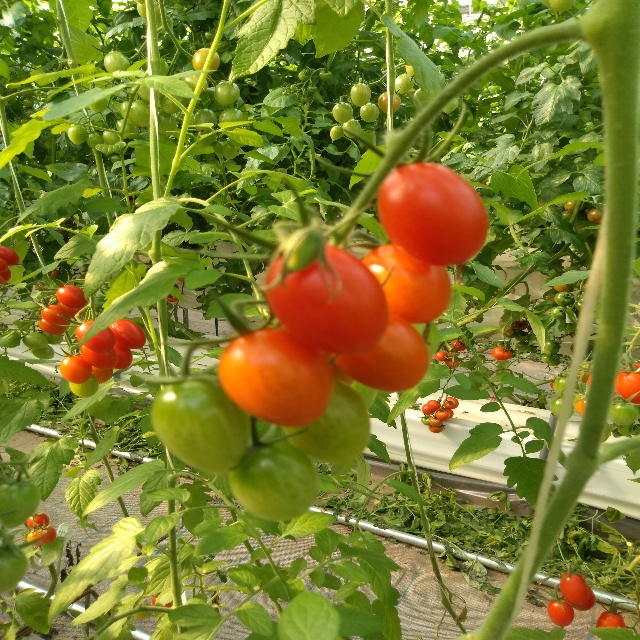l_fully_ripened: (266, 243, 389, 355), (376, 161, 489, 268), (325, 309, 429, 392), (74, 320, 116, 353), (109, 319, 147, 349), (559, 571, 589, 606), (615, 365, 640, 404), (80, 344, 117, 370), (547, 597, 574, 627), (55, 285, 87, 308), (568, 585, 596, 611), (595, 610, 627, 628), (112, 343, 133, 369), (34, 525, 57, 544), (26, 512, 50, 530), (0, 246, 19, 266), (0, 257, 8, 272)
l_green: (152, 375, 249, 475), (278, 378, 370, 464), (229, 441, 320, 521), (0, 478, 40, 529), (0, 543, 28, 596), (68, 374, 100, 398), (608, 401, 639, 425), (104, 51, 130, 78), (214, 81, 241, 106), (218, 107, 244, 131), (194, 108, 218, 133), (161, 92, 187, 114), (129, 100, 150, 127), (158, 108, 177, 135), (120, 100, 138, 127), (350, 83, 371, 106), (23, 332, 48, 350), (67, 124, 88, 145), (332, 103, 353, 124), (359, 102, 379, 123), (394, 73, 414, 94), (115, 119, 138, 137), (197, 128, 216, 148), (342, 119, 362, 138), (103, 129, 124, 146), (86, 133, 104, 151), (31, 345, 54, 359), (87, 97, 107, 112), (40, 331, 63, 344), (442, 97, 459, 113), (330, 126, 344, 140)
l_half_ripened: (218, 327, 334, 428), (360, 242, 452, 324), (60, 353, 92, 384), (192, 48, 220, 75), (41, 304, 72, 326), (377, 91, 402, 114), (37, 318, 65, 335), (57, 301, 83, 319), (91, 364, 113, 383), (27, 529, 44, 546)
